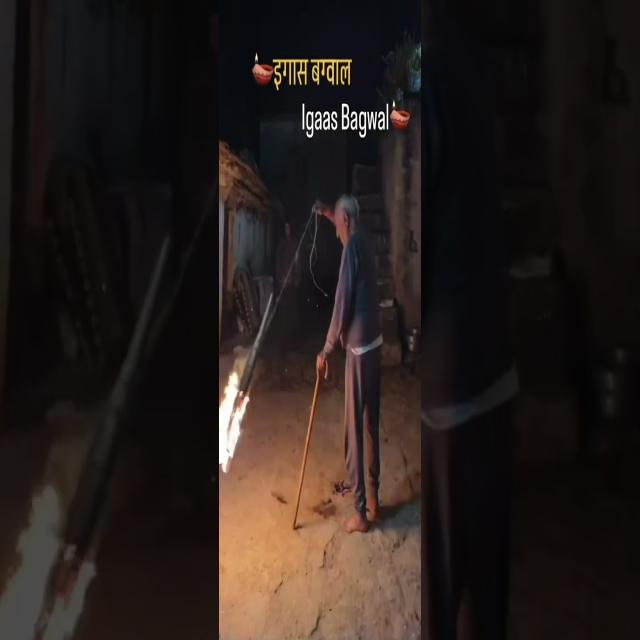fire: (220, 371, 248, 474)
